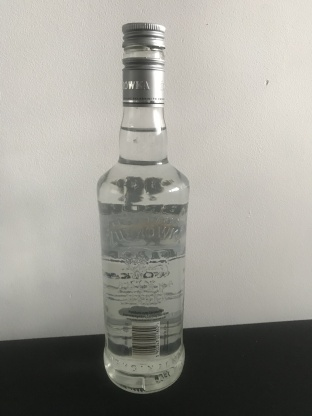nakretka: (120, 21, 166, 109)
